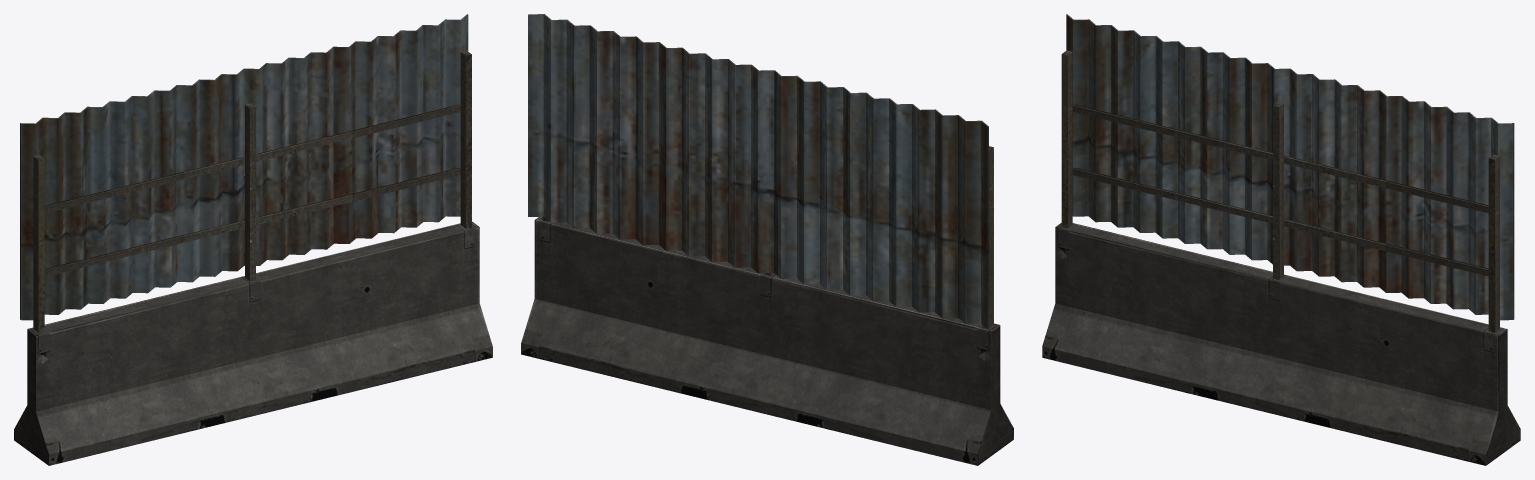
The model's file is barricade_b_4.obj.
3 views of the same model, side by side, from view 1: azimuth 30°, elevation 25°; view 2: azimuth 150°, elevation 25°; view 3: azimuth 330°, elevation 25° (orthographic). The views are drawn at different scales.
Visible parts, largest first — view 1: barricade_b_4; view 2: barricade_b_4; view 3: barricade_b_4.
Part boxes in pixels (bbox=[...]): barricade_b_4: bbox=[14, 14, 492, 465]; barricade_b_4: bbox=[521, 14, 1013, 465]; barricade_b_4: bbox=[1042, 14, 1520, 465].
Bounding box in the file's own units: 2.96 × 2.05 × 0.4.
